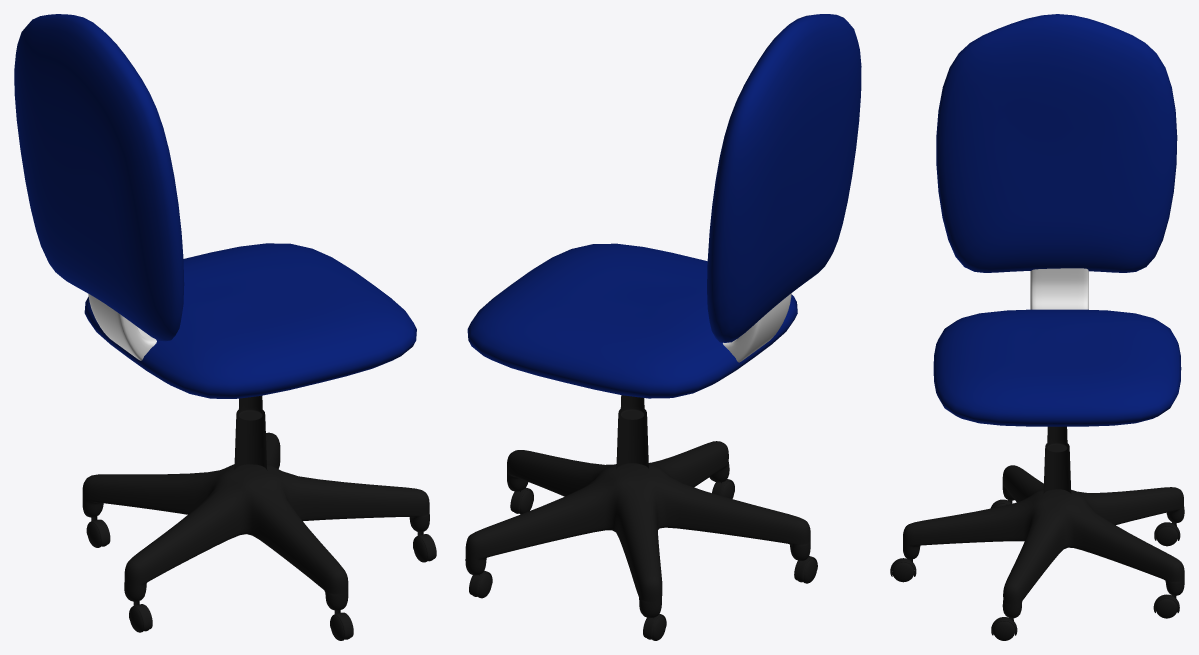
3 views of the same model, side by side, from view 1: azimuth 30°, elevation 25°; view 2: azimuth 150°, elevation 25°; view 3: azimuth 270°, elevation 25° (orthographic). The views are drawn at different scales.
Parts seen in each view (by area): view 1: 立方体.003, 立方体.001, 円, 円.001, 立方体.002; view 2: 立方体.003, 立方体.001, 円, 円.001, 立方体.002; view 3: 立方体.003, 立方体.001, 円, 立方体.002, 円.001.
Part boxes in pixels (<box>): 立方体.003: <box>14,14,184,341</box>; 立方体.001: <box>84,243,416,398</box>; 円: <box>82,395,429,610</box>; 円.001: <box>86,516,436,640</box>; 立方体.002: <box>88,293,156,360</box>; 立方体.003: <box>707,14,861,342</box>; 立方体.001: <box>467,243,797,398</box>; 円: <box>465,395,810,618</box>; 円.001: <box>469,479,817,640</box>; 立方体.002: <box>723,293,791,362</box>; 立方体.003: <box>936,14,1177,272</box>; 立方体.001: <box>933,309,1181,426</box>; 円: <box>903,426,1184,618</box>; 立方体.002: <box>1030,268,1088,309</box>; 円.001: <box>890,499,1180,640</box>.
Bounding box in the file's own units: 439 × 744 × 397.
